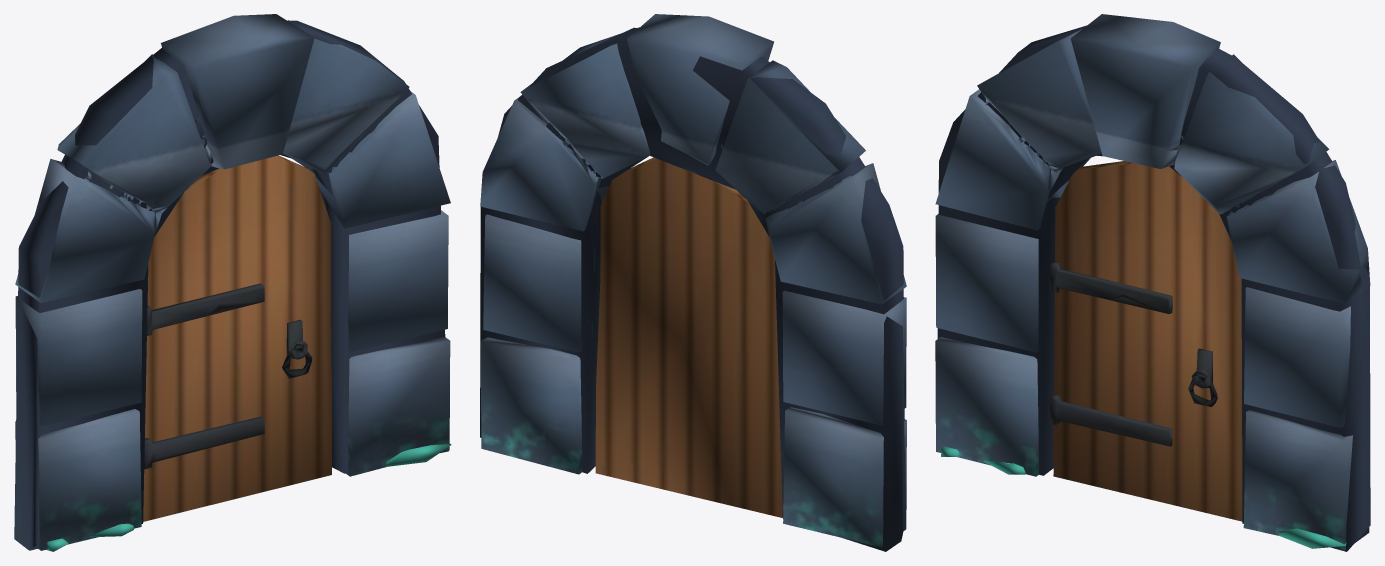
Rendered from door.glb.
The picture shows the model from 3 angles, left to right: view 1: azimuth 30°, elevation 25°; view 2: azimuth 150°, elevation 25°; view 3: azimuth 330°, elevation 25°; orthographic projection. The views are drawn at different scales.
Parts seen in each view (by area): view 1: stone; view 2: stone; view 3: stone.
Part boxes in pixels (x1,y1,x2,y2): stone: [14, 14, 451, 551]; stone: [480, 14, 906, 551]; stone: [935, 14, 1370, 551].
Size of the model in its own units: 2.1 by 2.27 by 0.321.
Materials: 1 (1 with a texture image).
